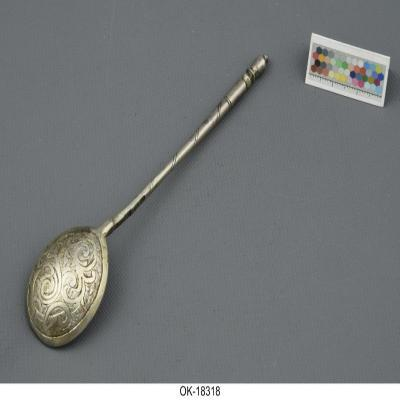dpi: (25, 54, 270, 350)
